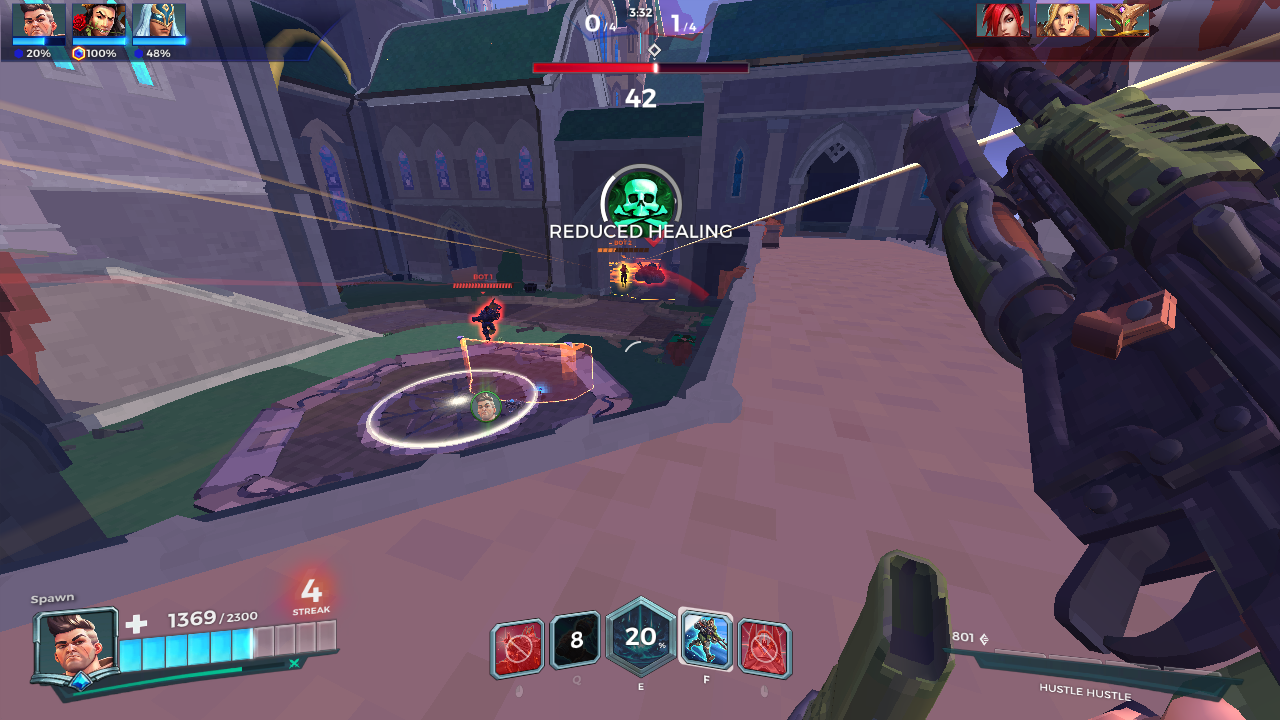model: (459, 297, 501, 337), (616, 261, 630, 288)
